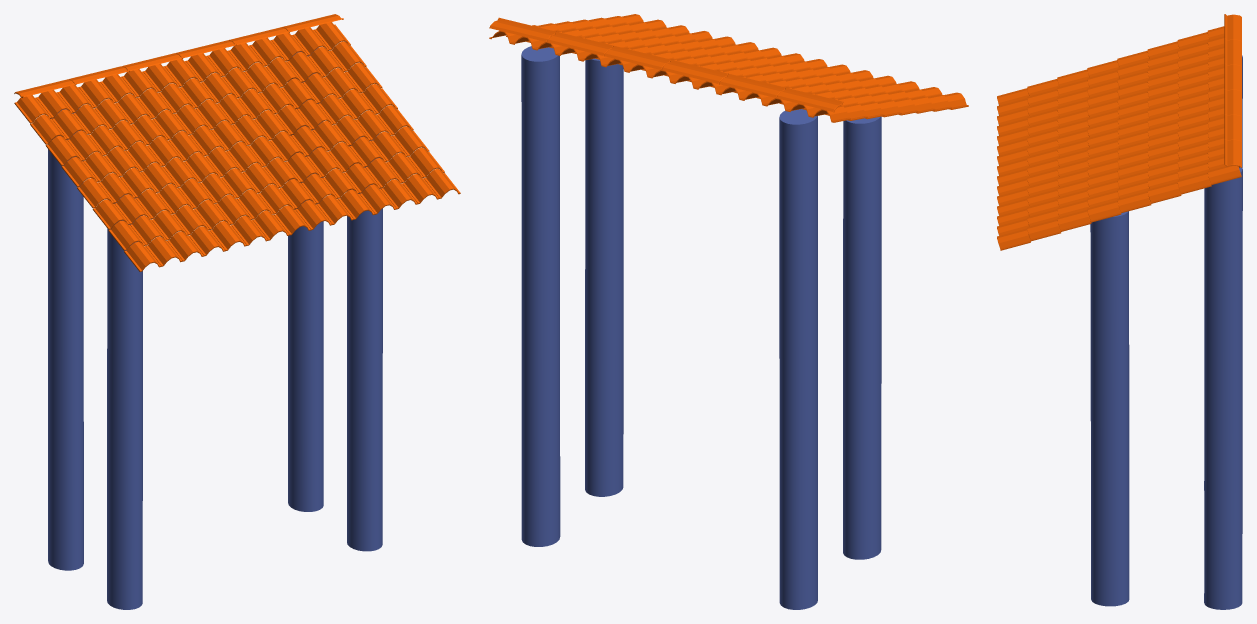
The model's file is Entrada.obj.
3 renders of one model, left to right at view 1: azimuth 30°, elevation 25°; view 2: azimuth 150°, elevation 25°; view 3: azimuth 270°, elevation 25°, orthographic. The views are drawn at different scales.
Parts seen in each view (by area): view 1: polySurface1011; view 2: polySurface1011; view 3: polySurface1011.
Part boxes in pixels (x1,y1,x2,y2): polySurface1011: (14, 14, 460, 609); polySurface1011: (489, 14, 968, 609); polySurface1011: (997, 14, 1242, 609).
Size of the model in its own units: 4.63 by 6.57 by 3.2.
Materials: 3 (3 with a texture image).
